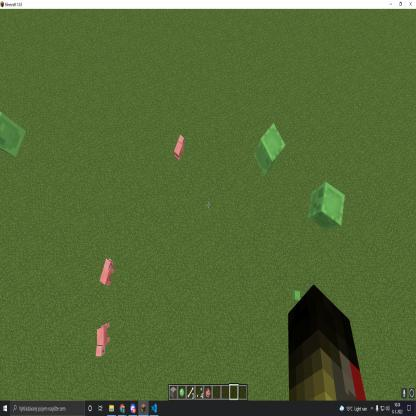pig: (93, 320, 115, 359), (97, 254, 116, 294), (173, 131, 187, 164)
